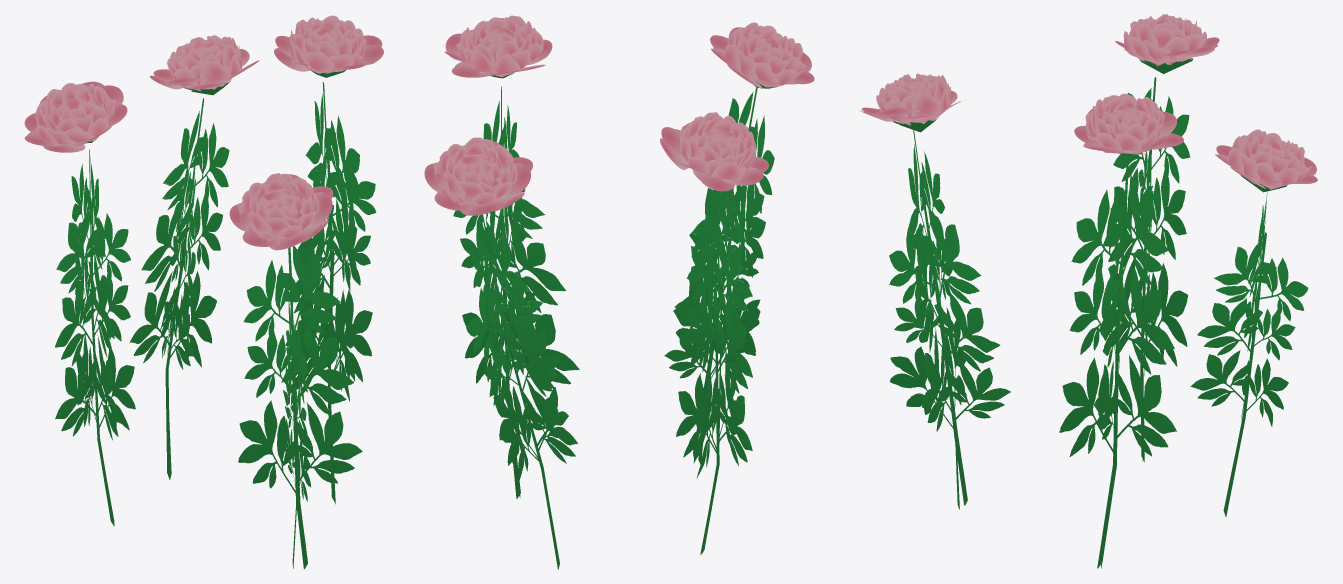
Rendered from PT_Peony_01.fbx.
The picture shows the model from 3 angles, left to right: view 1: azimuth 30°, elevation 25°; view 2: azimuth 150°, elevation 25°; view 3: azimuth 270°, elevation 25°; orthographic projection. The views are drawn at different scales.
Parts seen in each view (by area): view 1: PT_Peony_01_LOD0; view 2: PT_Peony_01_LOD0; view 3: PT_Peony_01_LOD0.
Boxes of the visible parts, bbox=[...] form: PT_Peony_01_LOD0: bbox=[24, 15, 383, 569]; PT_Peony_01_LOD0: bbox=[424, 15, 814, 569]; PT_Peony_01_LOD0: bbox=[859, 14, 1317, 568].
Size of what is drawn, in the model's own units: 92.18 by 124 by 114.
